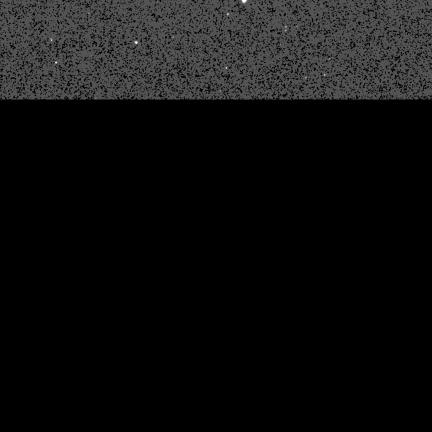blob: (242, 0, 247, 3), (135, 41, 138, 45), (55, 62, 58, 65)
